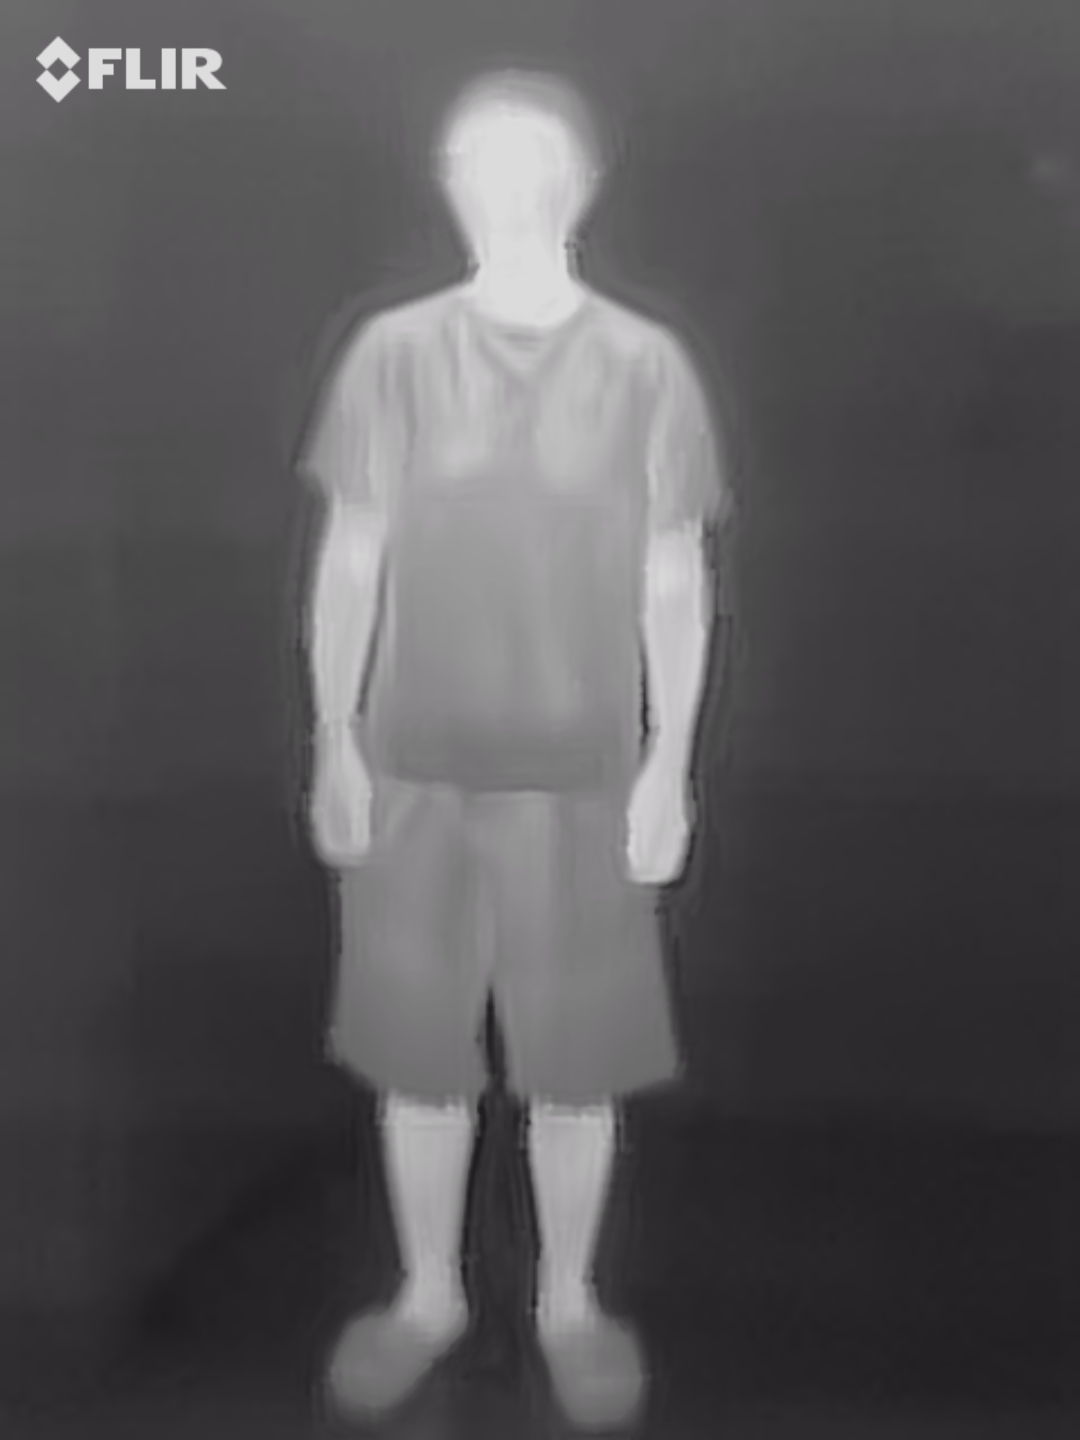head: (439, 68, 601, 271)
